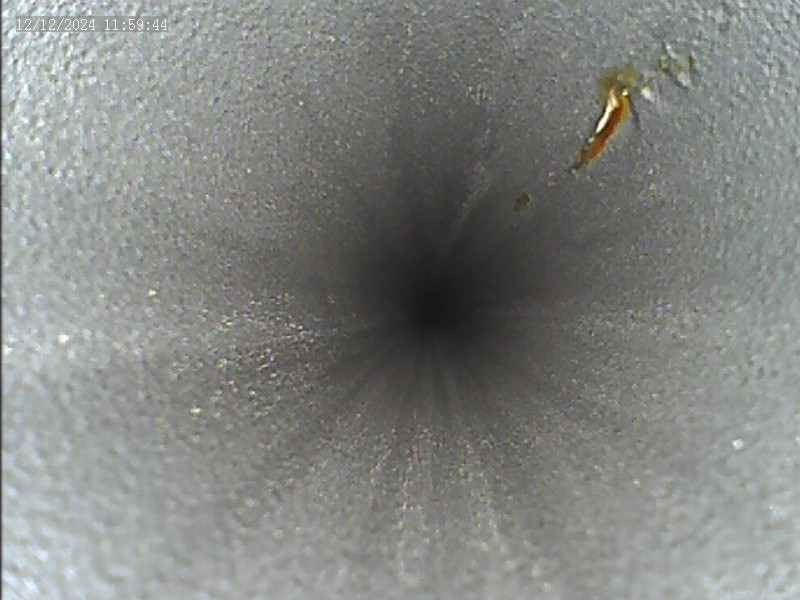defective_area: (511, 39, 699, 213)
